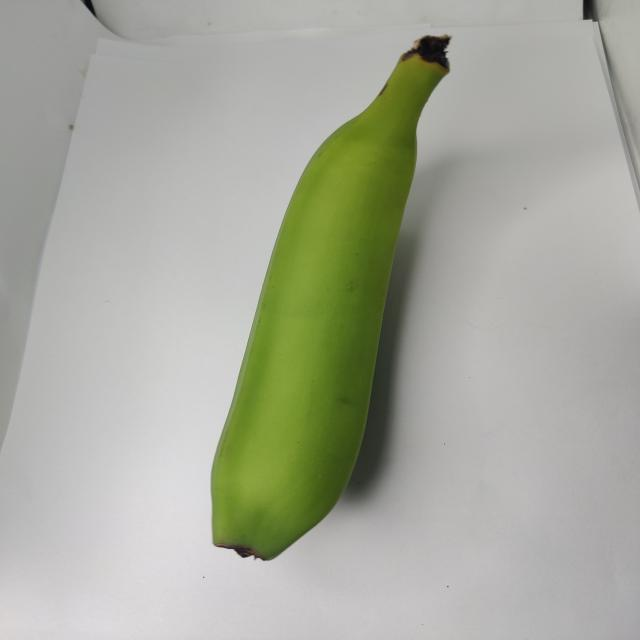raw: (147, 12, 540, 566)
